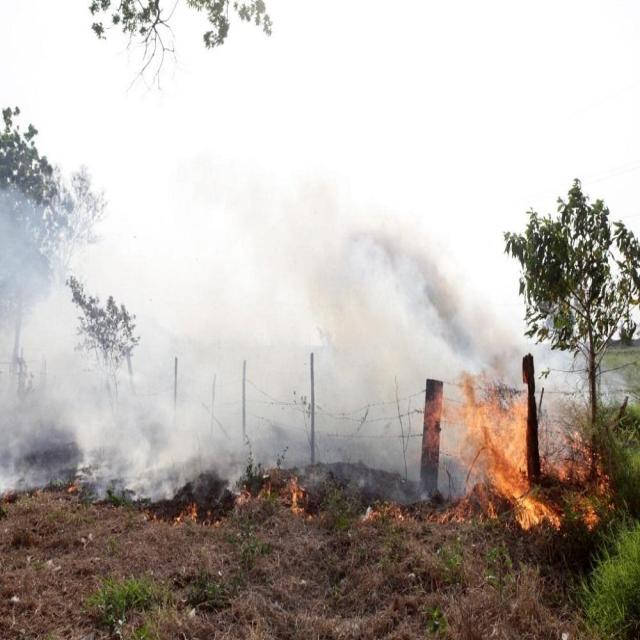Fire: (424, 371, 608, 524), (286, 475, 304, 515)
